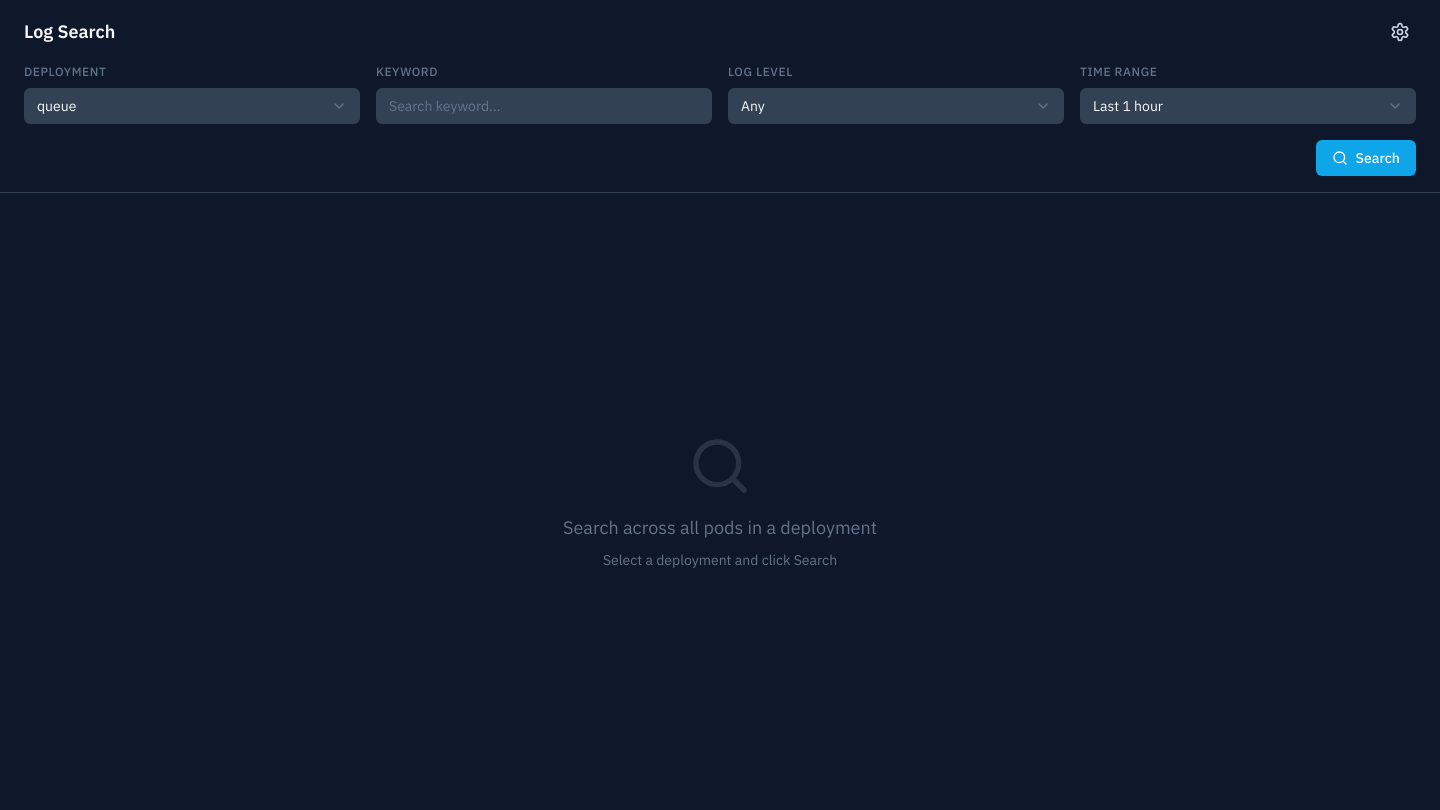
Test: manual log search › shows a 30-second timeout as an error and ignores late success
Click the button "Search" at [1366, 158], box x1=1316 y1=140 x2=1416 y2=176
Wait 30000 ms
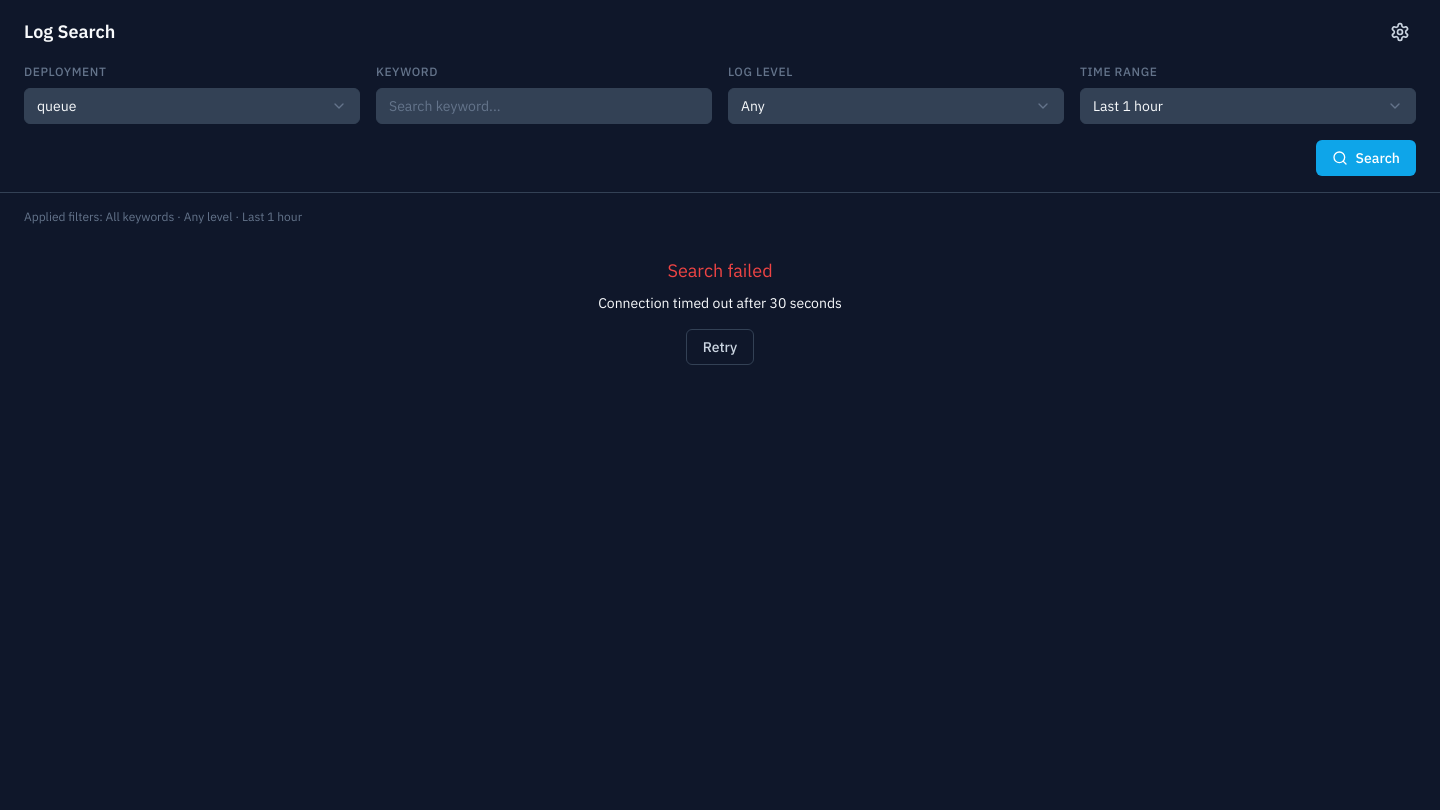
Check: the message shows "Connection timed out after 30 seconds", box x1=598 y1=294 x2=842 y2=312
Check: the text "Search failed" is shown, box x1=667 y1=257 x2=773 y2=285
